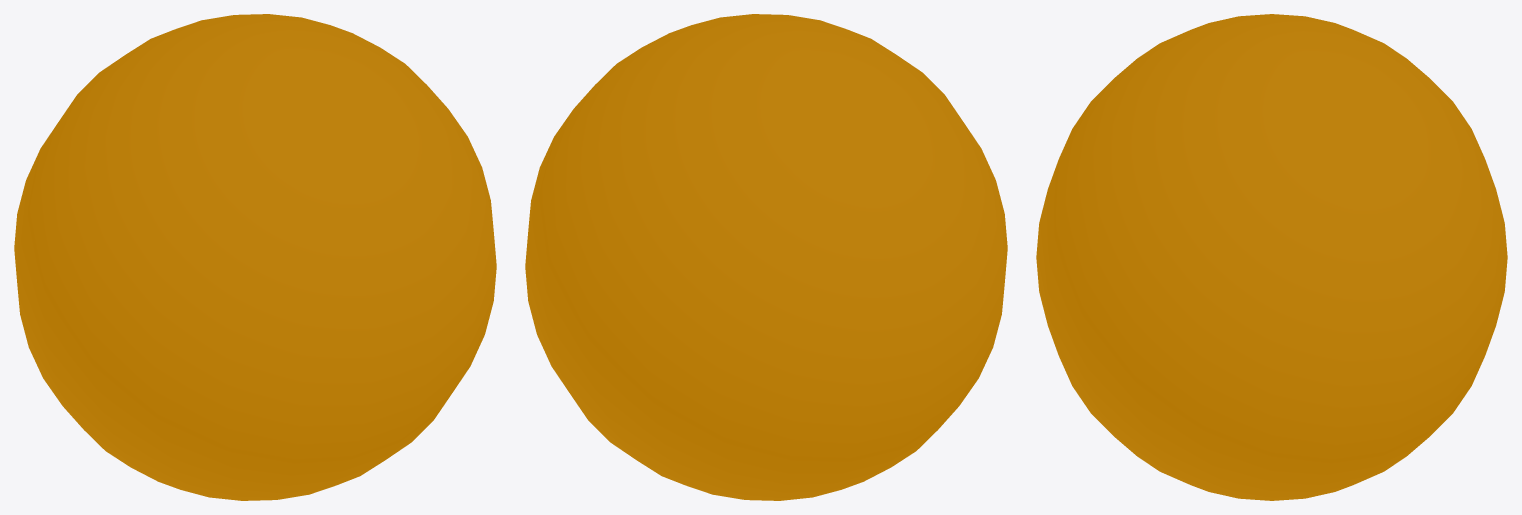
File: sun.fbx
The picture shows the model from 3 angles, left to right: view 1: azimuth 30°, elevation 25°; view 2: azimuth 150°, elevation 25°; view 3: azimuth 270°, elevation 25°; orthographic projection.
Visible parts, largest first — view 1: pSphere1; view 2: pSphere1; view 3: pSphere1.
Part boxes in pixels (x1=…): pSphere1: x1=14, y1=14, x2=496, y2=500; pSphere1: x1=525, y1=14, x2=1007, y2=500; pSphere1: x1=1036, y1=14, x2=1507, y2=500.
Size of the model in its own units: 7.37 by 7.37 by 7.13.
